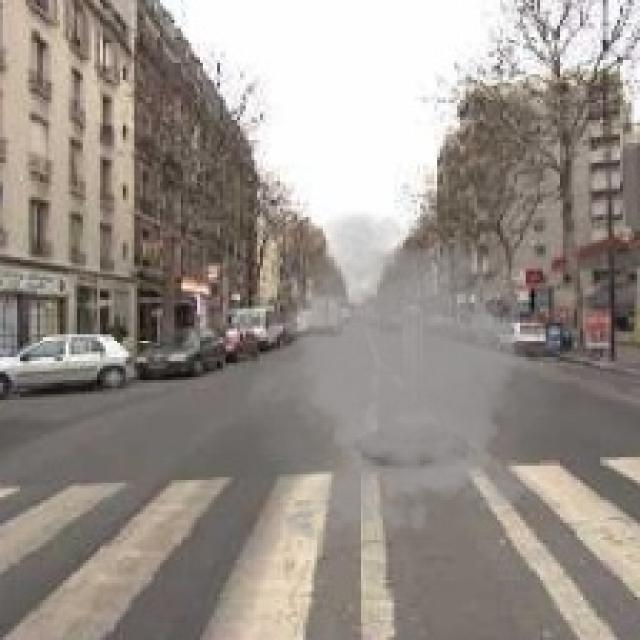smoke: (232, 206, 577, 551)
